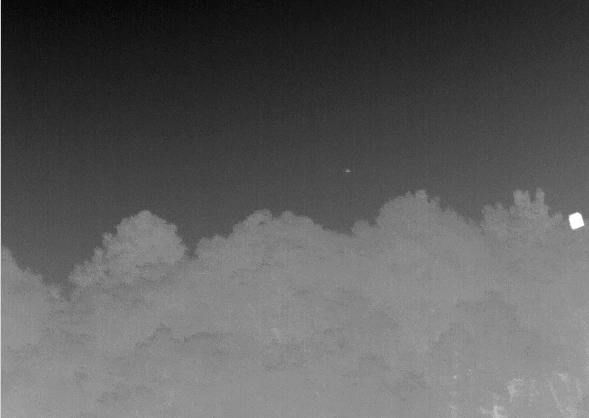dim target: (344, 168, 351, 174)
